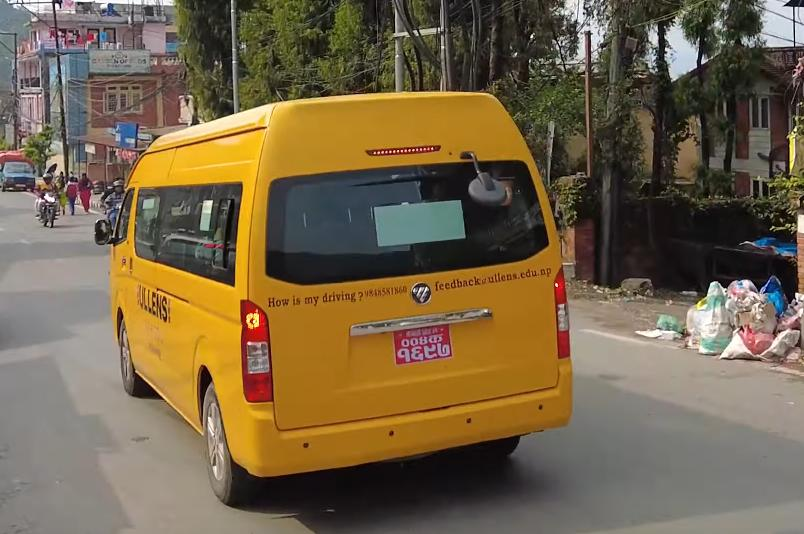bike: (34, 184, 62, 233)
school_bus: (92, 87, 588, 512)
